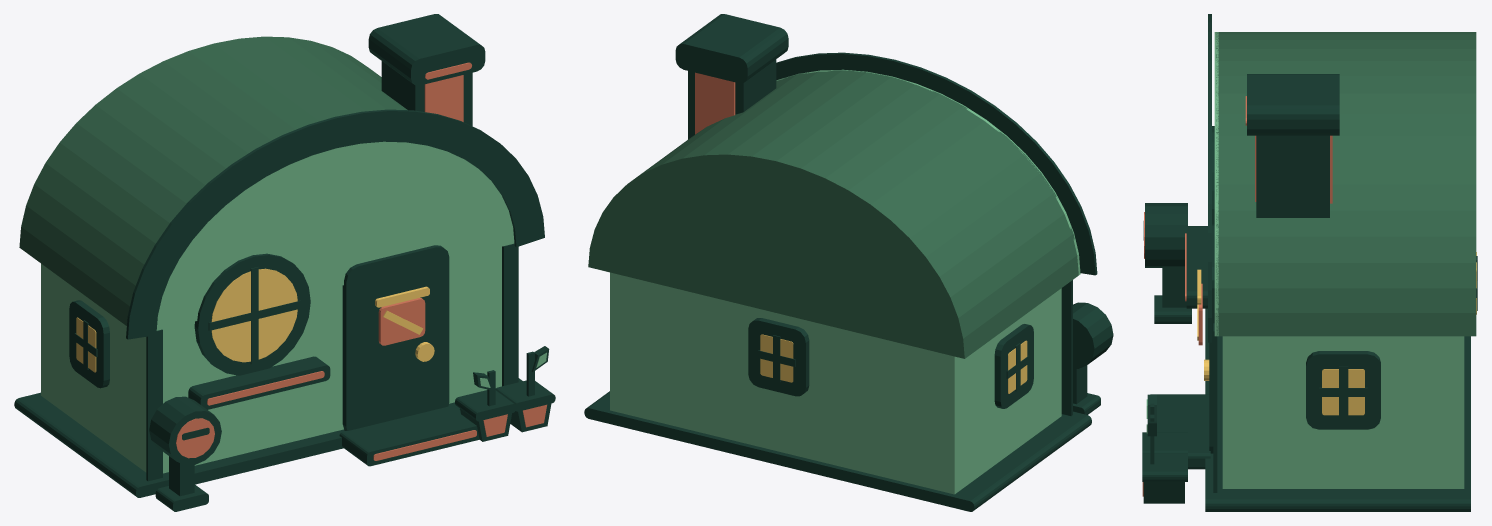
3 renders of one model, left to right at view 1: azimuth 30°, elevation 25°; view 2: azimuth 150°, elevation 25°; view 3: azimuth 270°, elevation 25°, orthographic. The views are drawn at different scales.
Parts seen in each view (by area): view 1: Rent Free house; view 2: Rent Free house; view 3: Rent Free house.
Part boxes in pixels (x1,y1,x2,y2): Rent Free house: [14, 14, 555, 511]; Rent Free house: [584, 14, 1113, 511]; Rent Free house: [1142, 14, 1477, 511].
Bounding box in the file's own units: 1.12 × 0.9057 × 0.7143.
